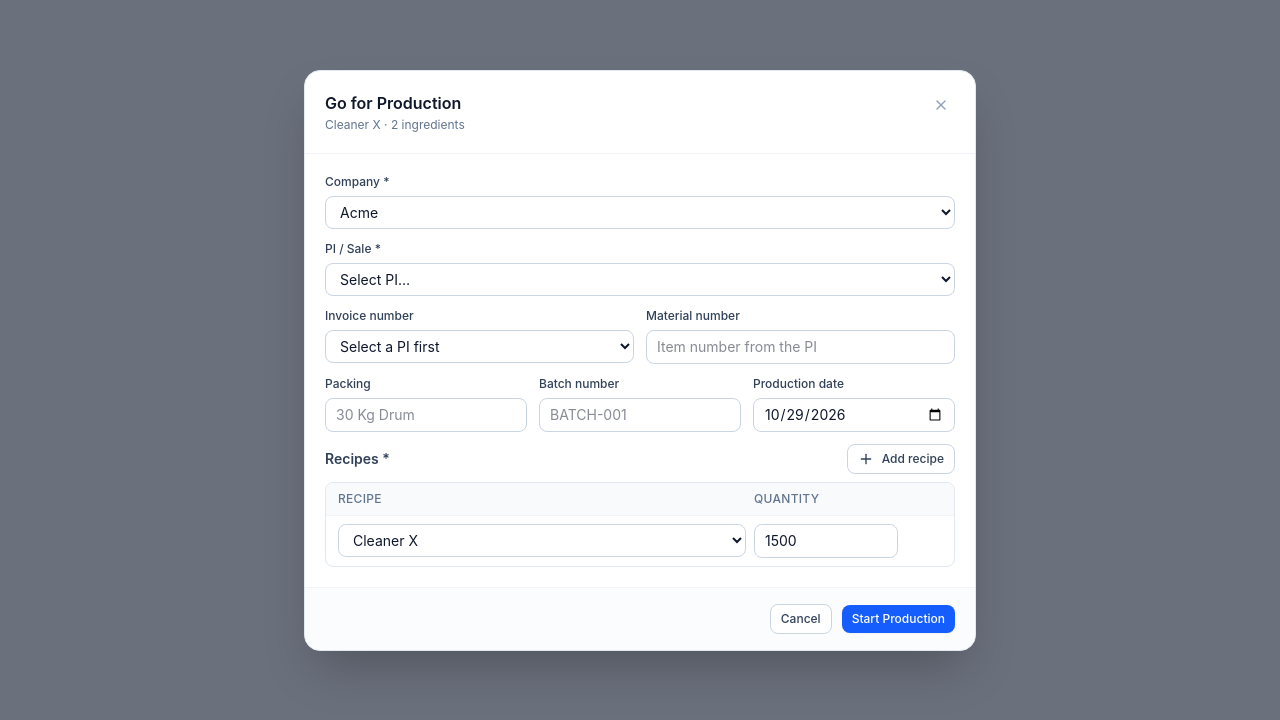
Test: ProductionRunModal › refuses to create an invoice when the PI has a header-only invoice
Select "Acme" in the dropdown named "Company" at (640,212), box [325,196,955,228]
Select "PI-9 — Acme LLC" in the dropdown named "PI / Sale" at (640,279), box [325,262,955,296]
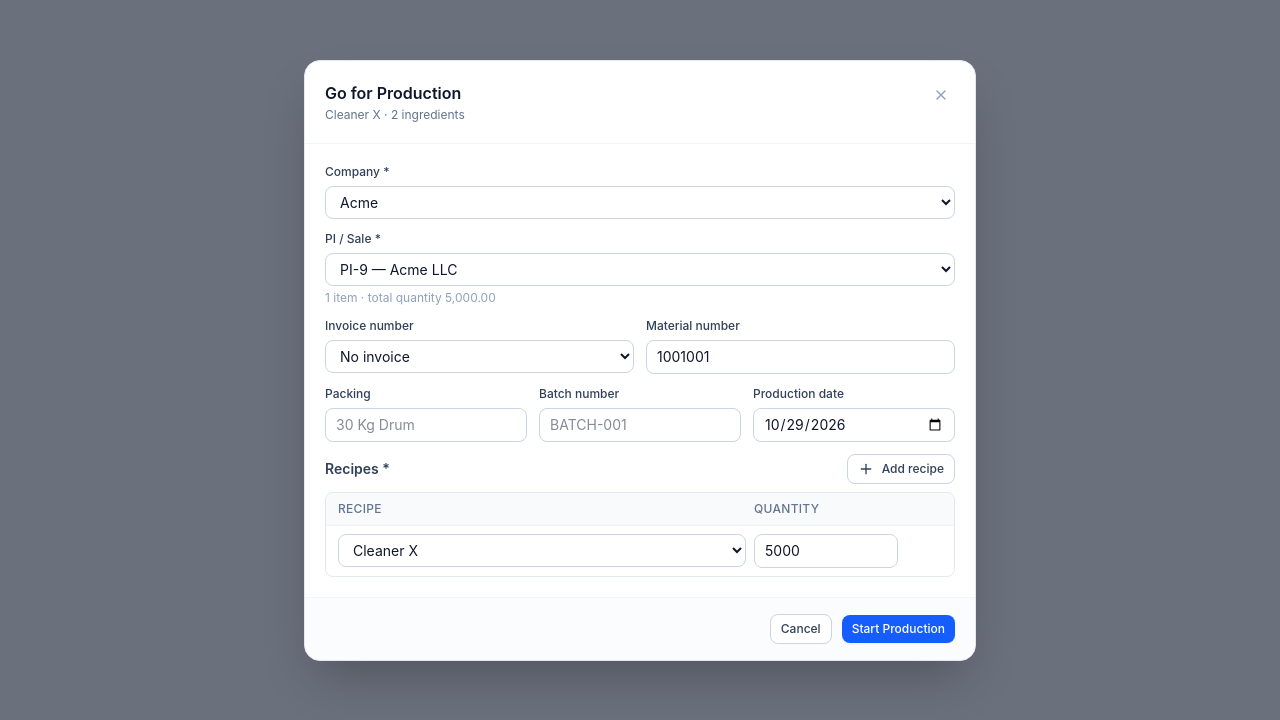
Expected: the number field named "Quantity" holds "5000", [754,534,898,568]
Select "New invoice number…" in the dropdown named "Invoice number" at (480,356), box [325,340,634,372]
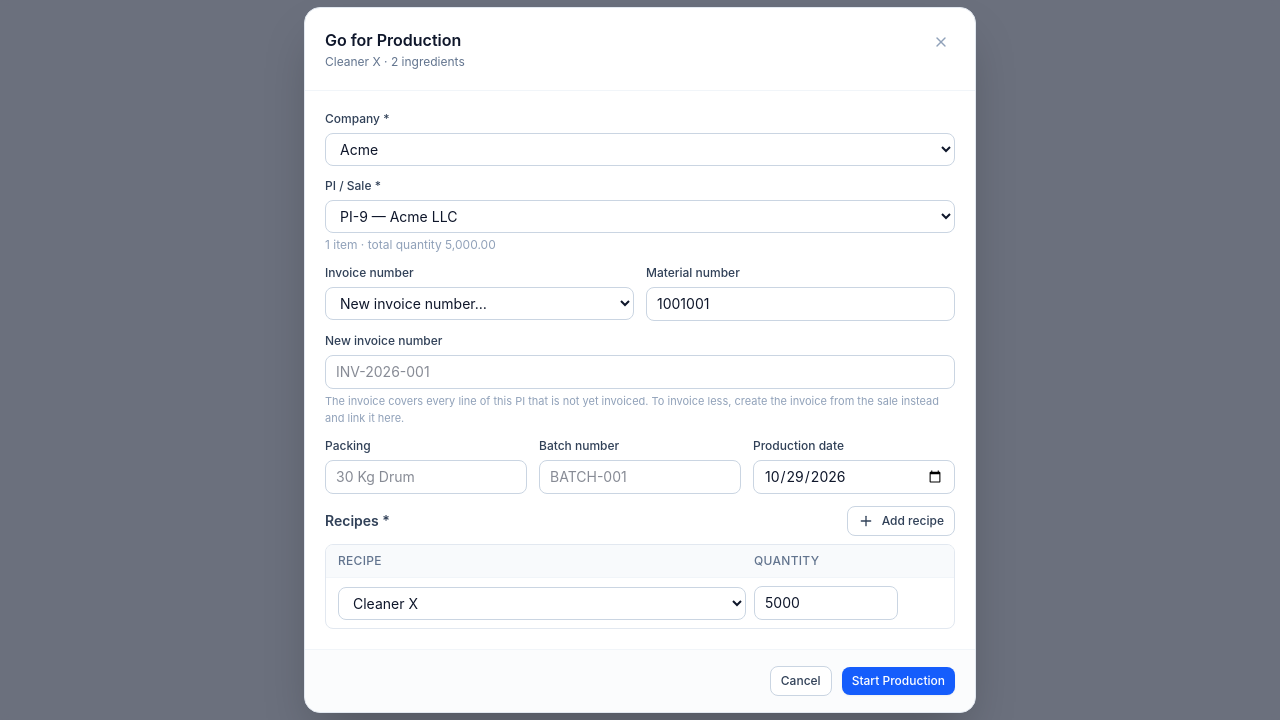
Type "INV-DUP" into the field named "New invoice number" at (640,372), box [325,355,955,389]
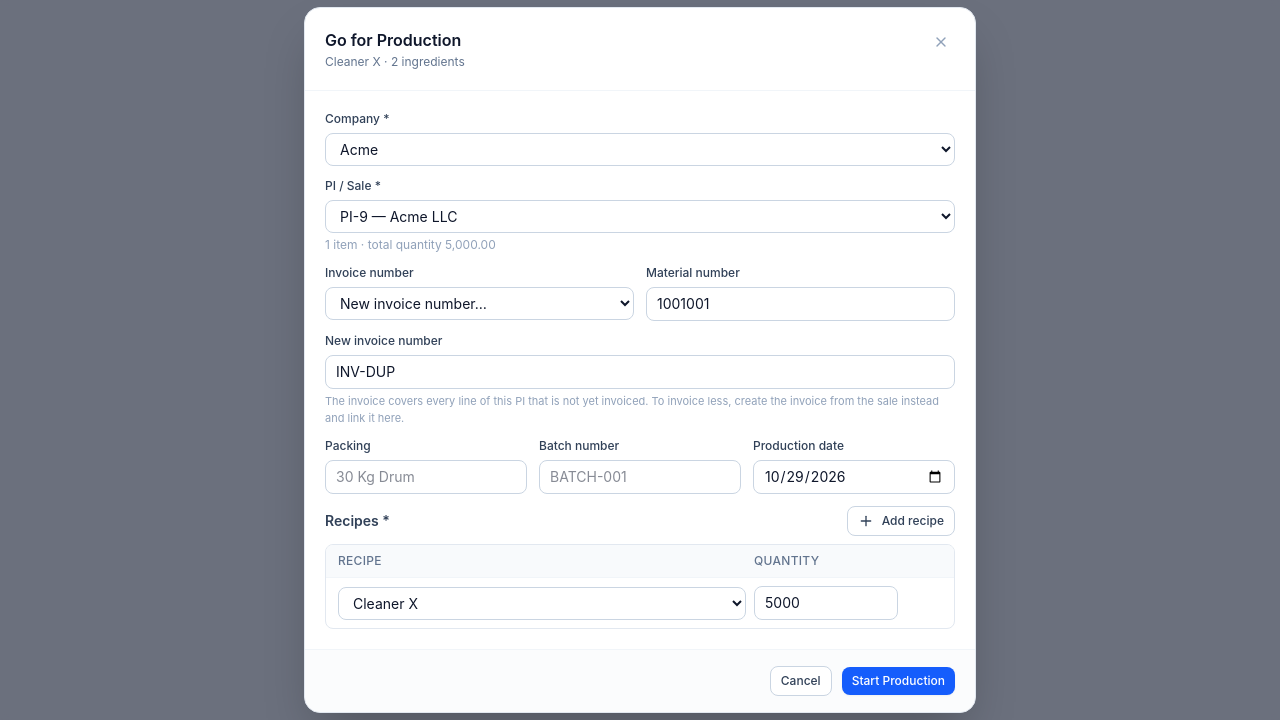
Click the button "Start Production" at (898,681), box [842,667,955,695]
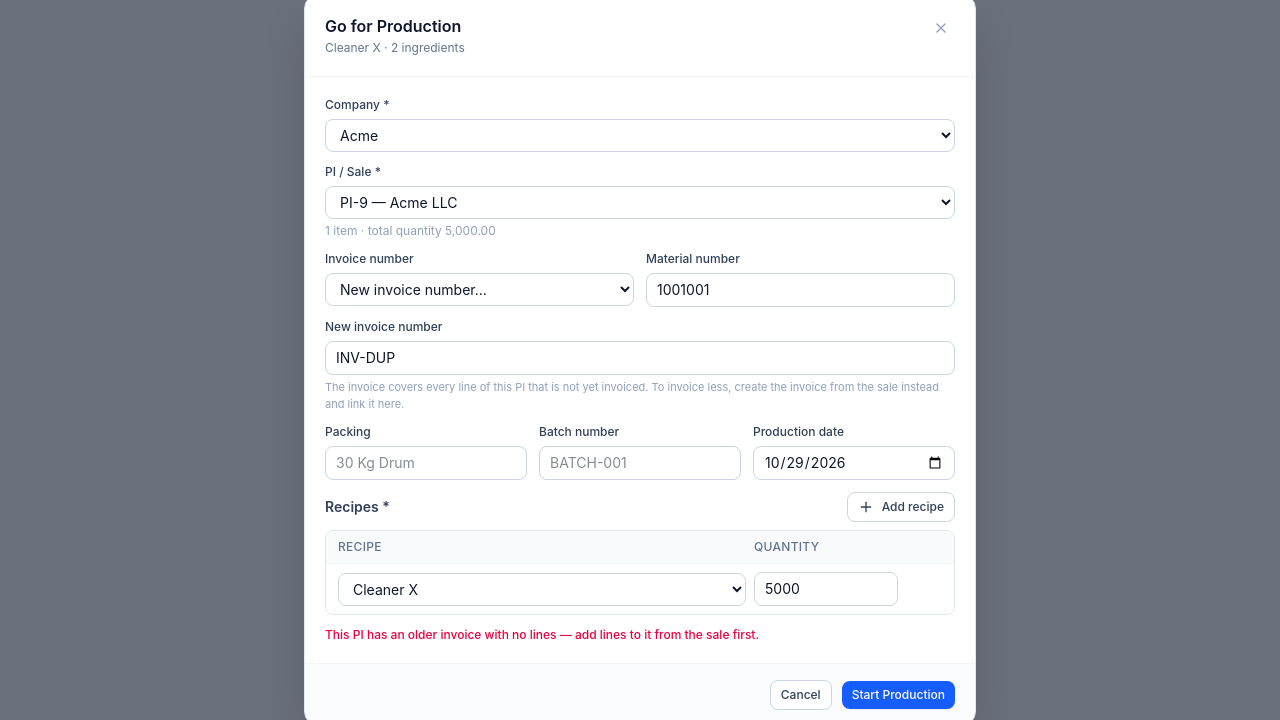
Expected: the text "older invoice with no lines" is shown, [325,627,759,642]
